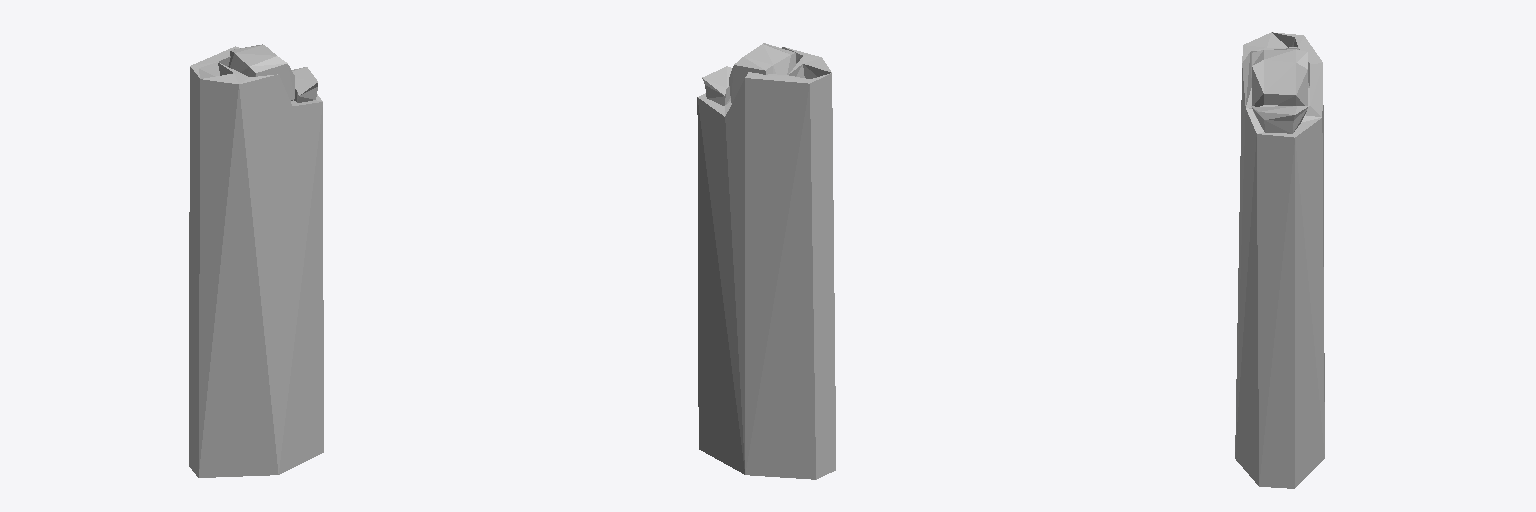
The model's file is lighter.obj.
3 views of the same model, side by side, from view 1: azimuth 30°, elevation 25°; view 2: azimuth 150°, elevation 25°; view 3: azimuth 270°, elevation 25° (orthographic).
Visible parts, largest first — view 1: lighter; view 2: lighter; view 3: lighter.
Part boxes in pixels (bbox=[...]): lighter: bbox=[189, 44, 323, 477]; lighter: bbox=[697, 43, 835, 479]; lighter: bbox=[1235, 32, 1324, 488].
Size of the model in its own units: 2.45 by 7.56 by 1.52.